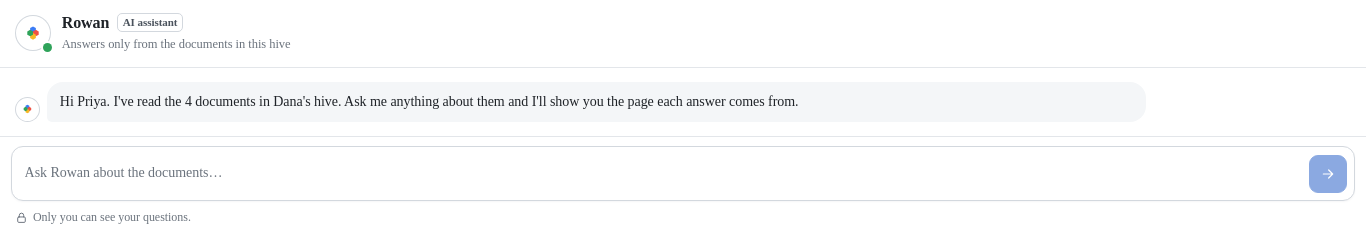
Test: AskChat › has an icon send button named for the assistant, disabled while empty
This screenshot has width=1366, height=241.
Expected: the button named "Send to Rowan" is disabled, [1309,155,1347,193]
Type "Hello" into the text box named "Question for Rowan" at {"x": 663, "y": 174}, box [25,155,1302,193]
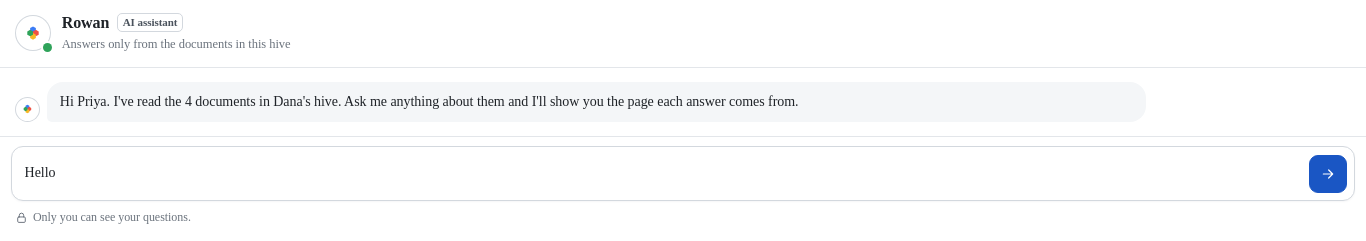
Result: the button named "Send to Rowan" is enabled at [1309,155,1347,193]
